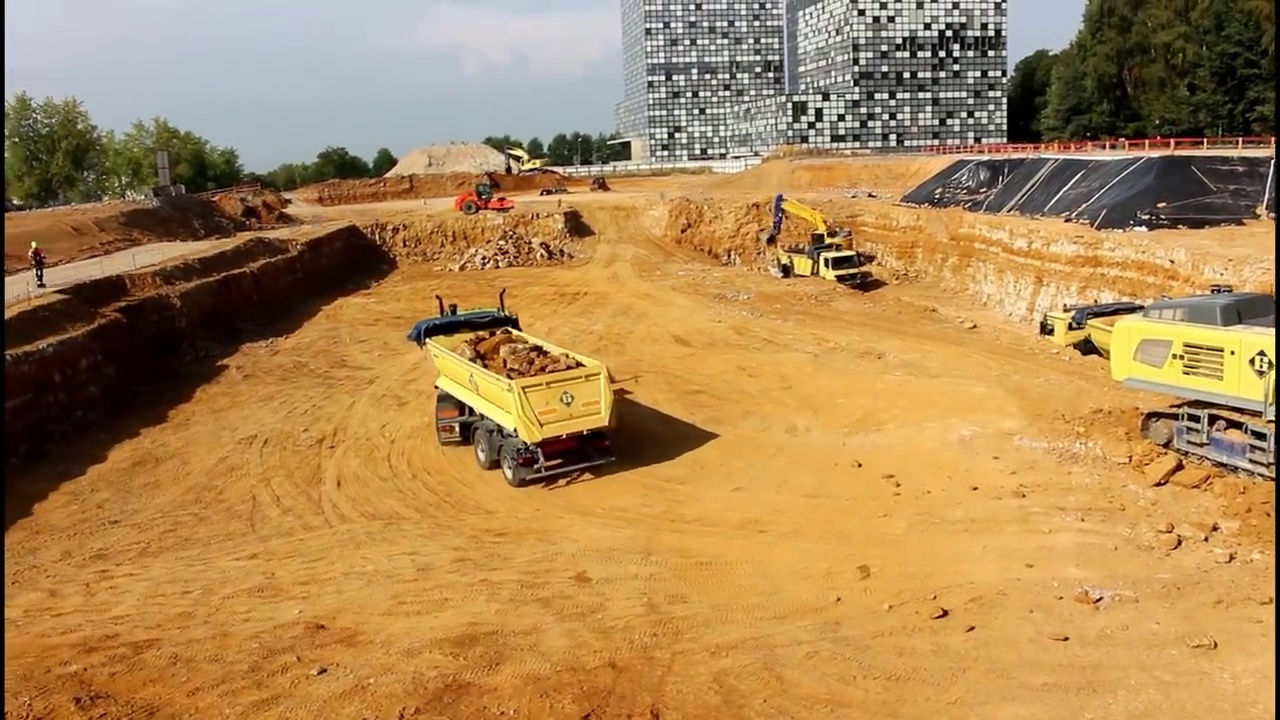compactor: (451, 181, 519, 219)
excavator: (1107, 281, 1280, 486), (757, 190, 860, 271), (499, 143, 551, 178)
truck: (402, 283, 622, 490), (1036, 299, 1216, 400), (778, 244, 874, 300)
worker: (26, 236, 54, 292)
